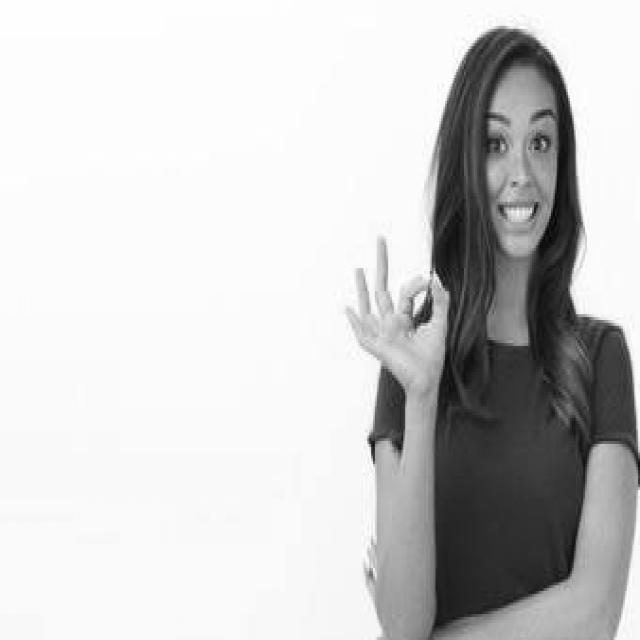perfect: (338, 224, 455, 418)
